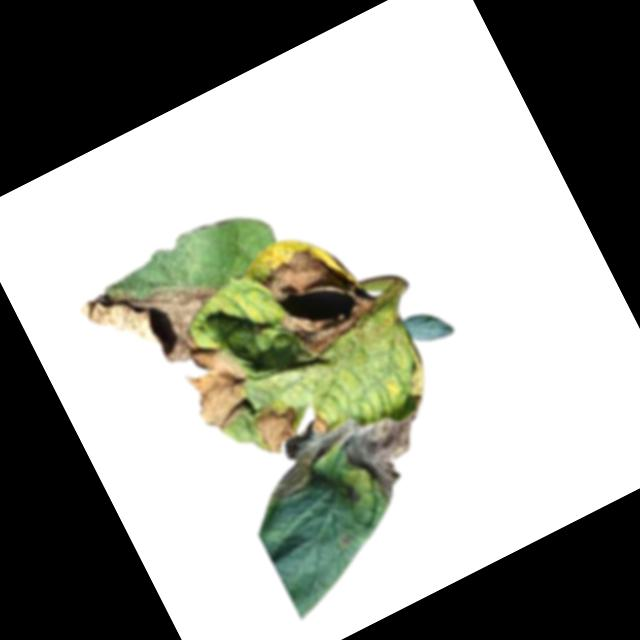Late_blight: (248, 376, 450, 549), (76, 240, 244, 393), (254, 230, 385, 365), (175, 338, 269, 437), (250, 399, 307, 457)
